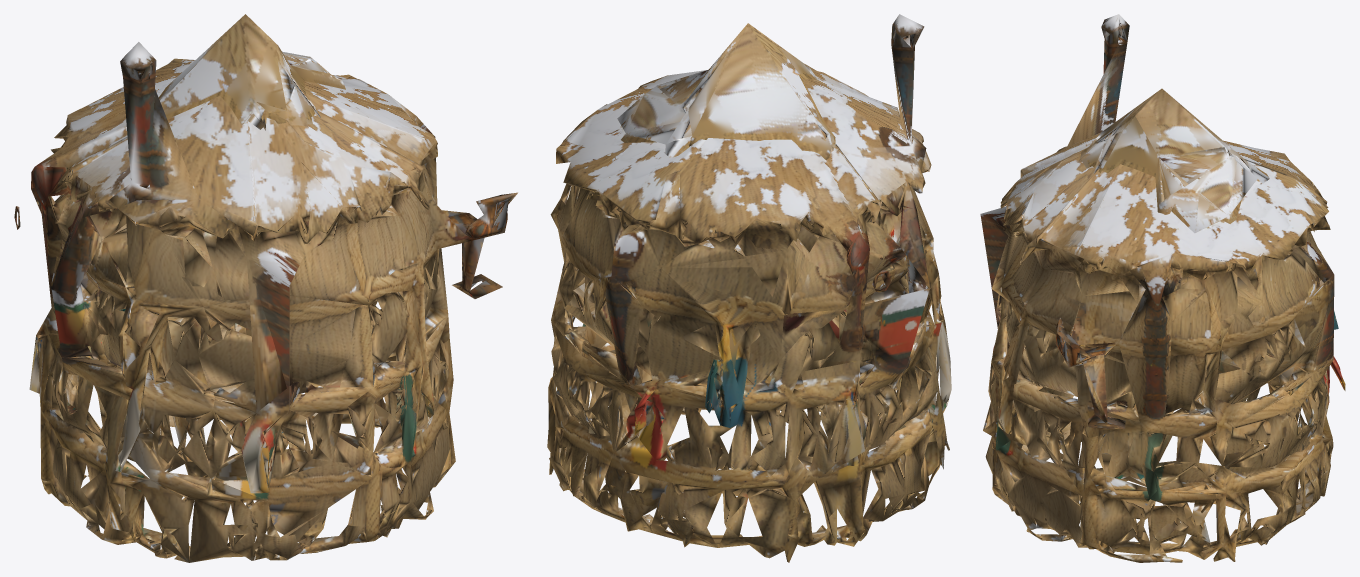
The model's file is PR_StrawStack.fbx.
3 renders of one model, left to right at view 1: azimuth 30°, elevation 25°; view 2: azimuth 150°, elevation 25°; view 3: azimuth 270°, elevation 25°, orthographic. The views are drawn at different scales.
Parts seen in each view (by area): view 1: texture_mapping; view 2: texture_mapping; view 3: texture_mapping.
Boxes of the visible parts, x1,y1,x2,y2 form: texture_mapping: (14,14,517,562); texture_mapping: (547,14,951,562); texture_mapping: (980,14,1345,562).
Bounding box in the file's own units: 0.7482 × 0.6849 × 0.8833.
1 material, 1 textured.
